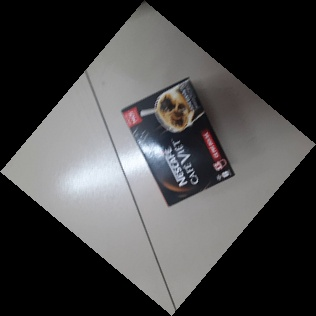CF Viet: (119, 77, 236, 209)
